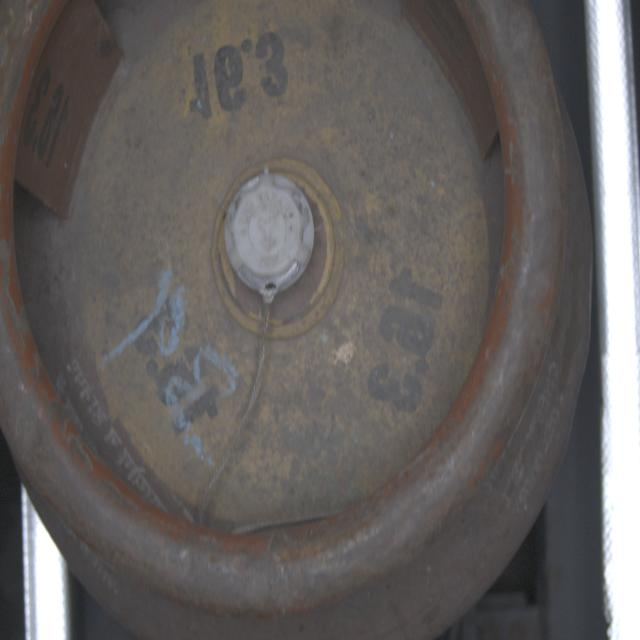Cap: (227, 171, 318, 296)
